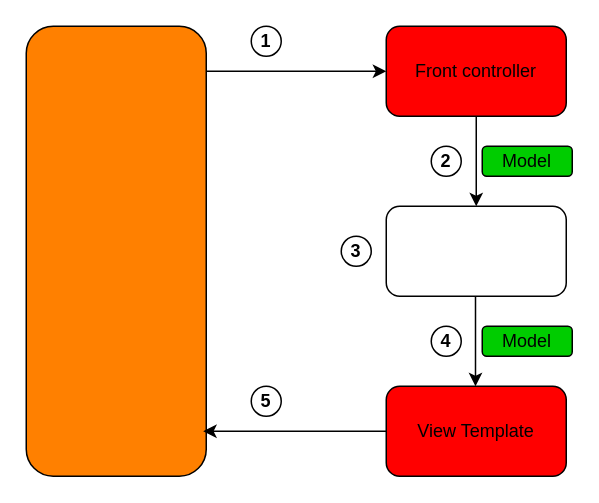
The diagram is 599 pixels wide and 503 high, and some of its shapes have lost their labels. Here are the shapes that lost their labels. From the top down, the centre of each, then its label:
(x=115, y=250): Web browser
(x=475, y=250): Controller
